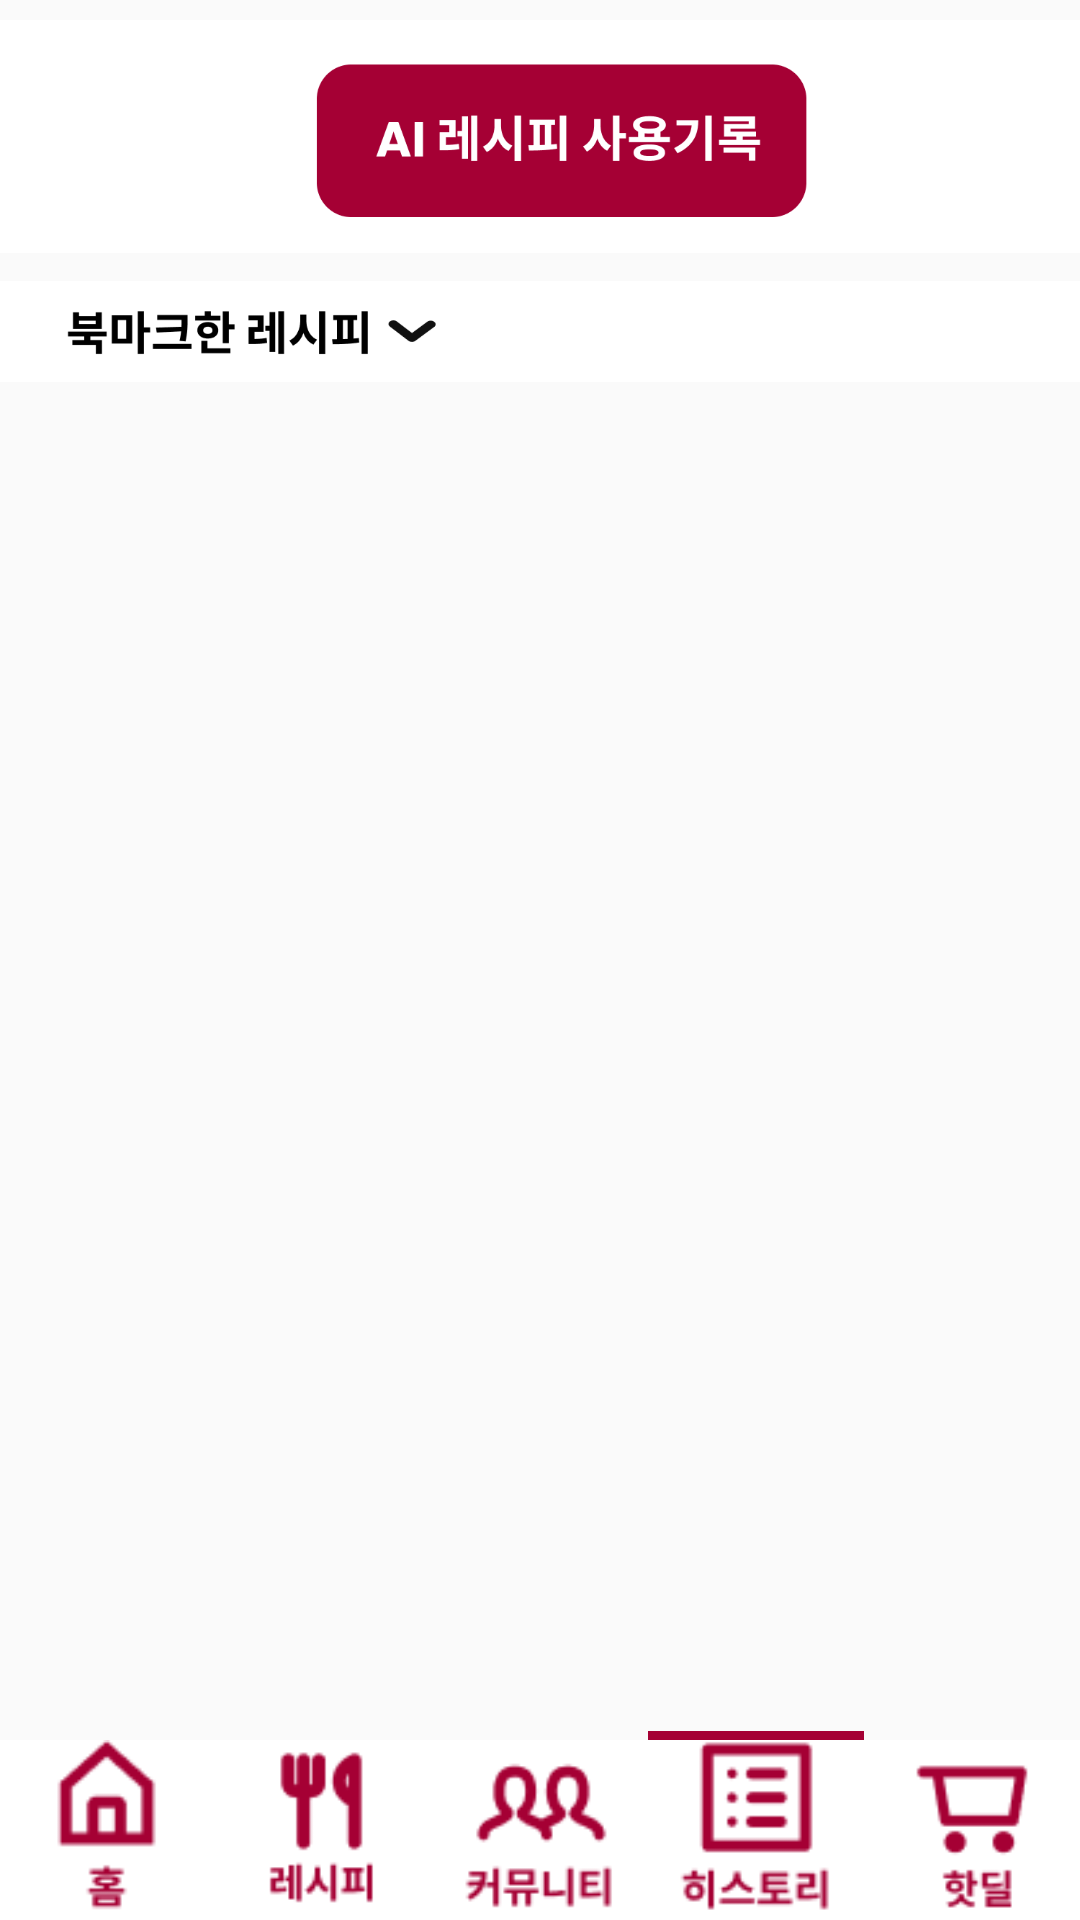

Icons on this 1080px×1920px Android screen, each with its box as Rect(x1, y1, x2, y2):
bottom store: Rect(916, 1765, 1028, 1908)
bottom talk: Rect(465, 1764, 612, 1907)
